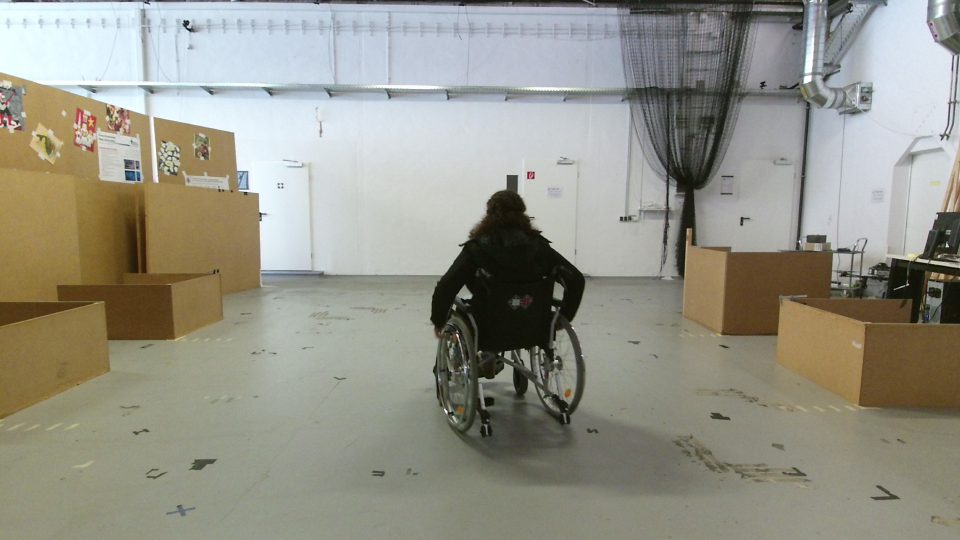wheelchair: (420, 180, 597, 443)
